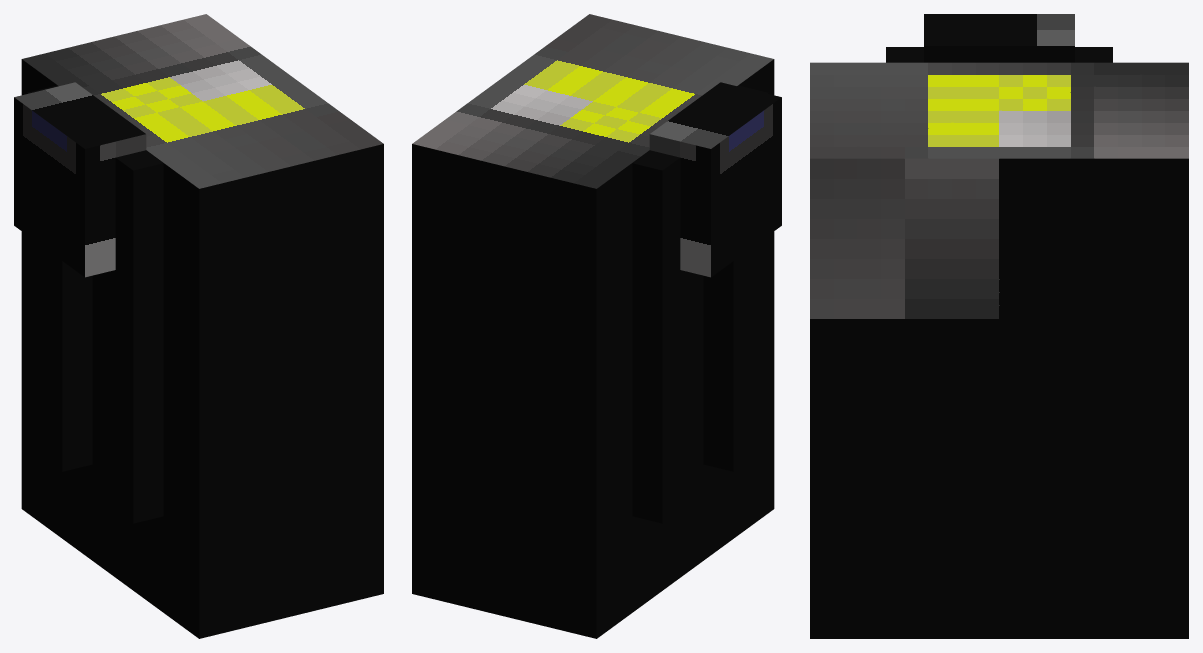
Rendered from filtered_chest.obj.
3 views of the same model, side by side, from view 1: azimuth 30°, elevation 25°; view 2: azimuth 150°, elevation 25°; view 3: azimuth 270°, elevation 25° (orthographic). The views are drawn at different scales.
Visible parts, largest first — view 1: chestplate, bb_main, cube; view 2: chestplate, bb_main, cube; view 3: chestplate, cube, bb_main.
Boxes of the visible parts, box(x1,y1,x2,y2) form: chestplate: box(21, 14, 383, 638); bb_main: box(27, 85, 163, 523); cube: box(14, 82, 146, 277); chestplate: box(412, 14, 774, 638); bb_main: box(632, 85, 768, 523); cube: box(649, 82, 781, 277); chestplate: box(810, 62, 1188, 638); cube: box(924, 14, 1074, 62); bb_main: box(886, 47, 1112, 62).
Bounding box in the file's own units: 0.5006 × 0.9069 × 0.6263.
